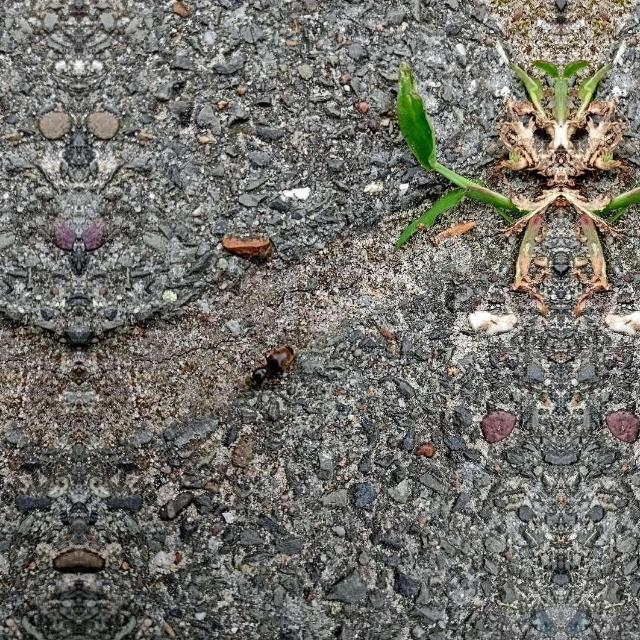Lasius: (236, 336, 298, 386)
